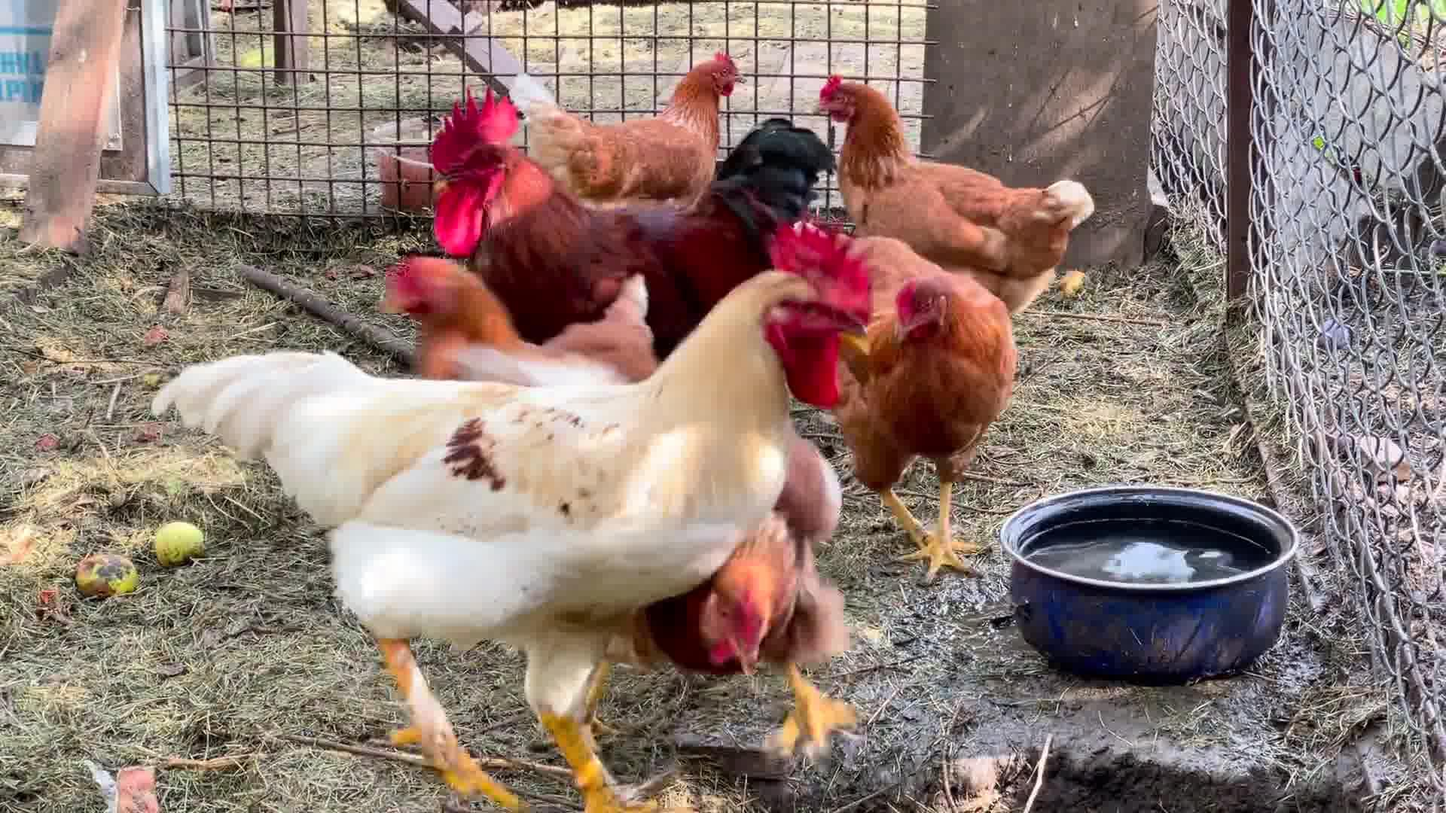Normal: (155, 215, 875, 807), (418, 87, 822, 319), (772, 217, 1024, 581), (818, 74, 1100, 316), (383, 243, 671, 386), (541, 44, 741, 208)
